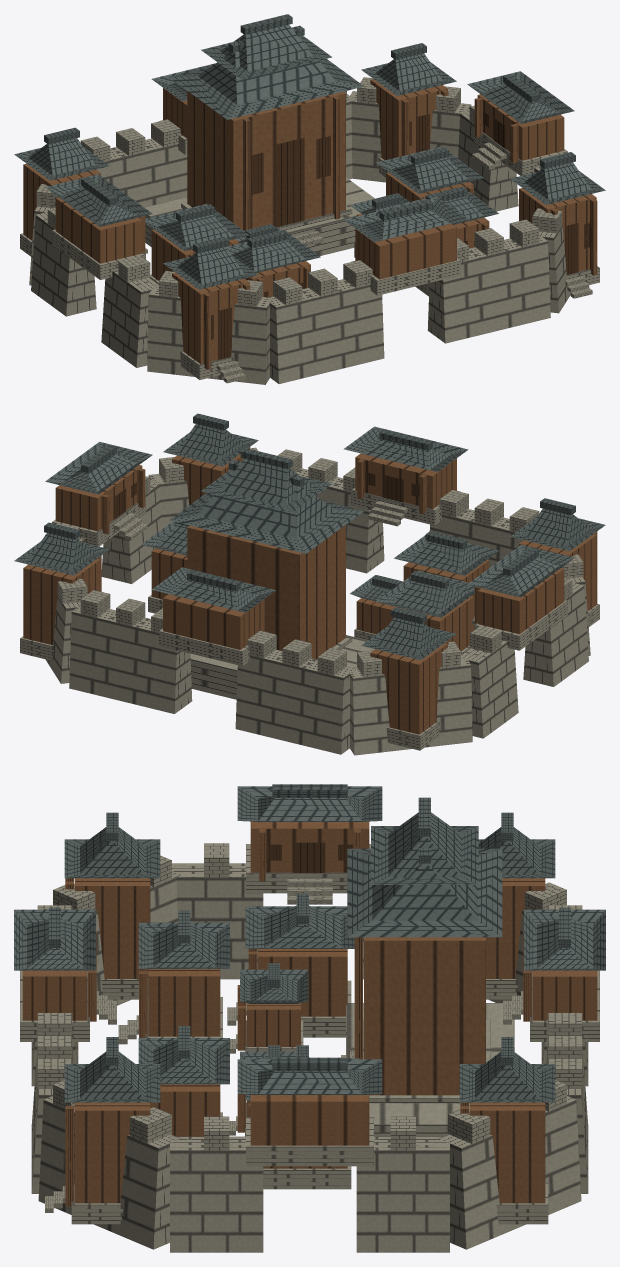
The model's file is city2-lod0.glb.
The picture shows the model from 3 angles, top to bottom: view 1: azimuth 30°, elevation 25°; view 2: azimuth 150°, elevation 25°; view 3: azimuth 270°, elevation 25°; orthographic projection. The views are drawn at different scales.
Bounding box in the file's own units: 2.03 × 0.901 × 1.65.
1 material, 1 textured.
